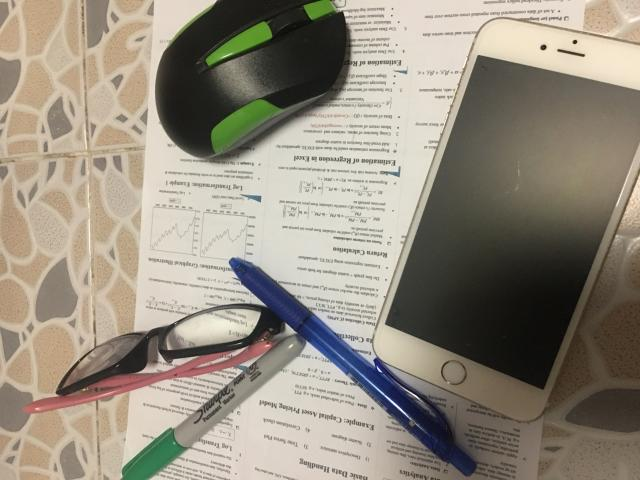Glasses: (24, 304, 284, 414)
Mobile phone: (374, 18, 640, 421)
Mouse: (155, 0, 346, 158)
Pen: (229, 258, 476, 476), (122, 335, 305, 480)
paper: (120, 0, 586, 480)
